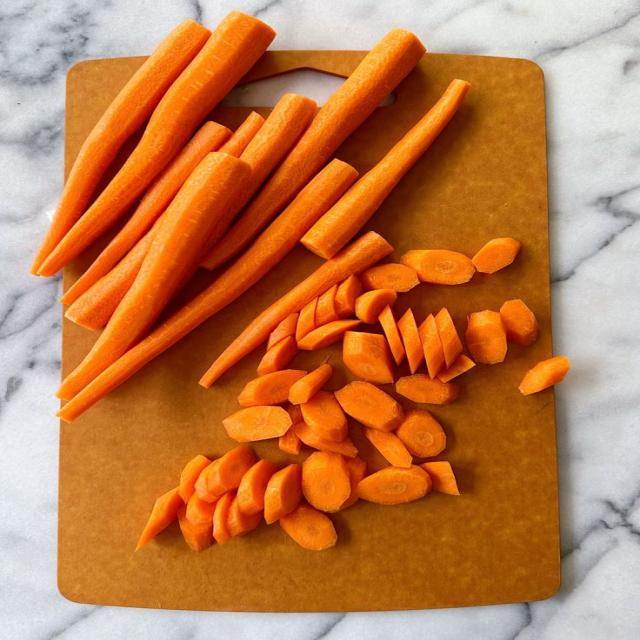carrot: (39, 12, 274, 275), (58, 213, 303, 422), (58, 153, 250, 399), (225, 30, 425, 259), (31, 20, 210, 274), (60, 122, 231, 304), (302, 80, 469, 258), (200, 232, 392, 386), (201, 94, 316, 269), (199, 95, 314, 260), (66, 232, 153, 330), (336, 381, 404, 431), (196, 447, 256, 501), (136, 488, 183, 550), (302, 452, 350, 512), (358, 466, 431, 504), (280, 503, 337, 550), (343, 332, 393, 384), (401, 250, 475, 285), (238, 370, 306, 407), (223, 406, 292, 442), (300, 391, 347, 442), (396, 410, 446, 457), (466, 310, 507, 364), (265, 464, 302, 523), (294, 423, 358, 457), (238, 460, 277, 515), (179, 494, 215, 551), (220, 112, 265, 157), (519, 356, 570, 395), (363, 427, 412, 467), (396, 374, 459, 404), (298, 320, 360, 350), (289, 363, 333, 405), (472, 238, 521, 274), (500, 300, 539, 345), (360, 263, 419, 292), (398, 309, 424, 373), (419, 314, 445, 377), (178, 505, 213, 551), (257, 336, 298, 375), (435, 308, 462, 367), (379, 306, 406, 364), (179, 455, 211, 502), (340, 457, 367, 510), (355, 289, 397, 323), (227, 496, 261, 537), (420, 462, 459, 495), (336, 275, 363, 318), (279, 404, 302, 454), (267, 313, 298, 350), (213, 492, 234, 544), (194, 459, 219, 501), (437, 355, 475, 382), (315, 284, 338, 327), (296, 298, 318, 341), (278, 424, 302, 454), (287, 404, 303, 426)
